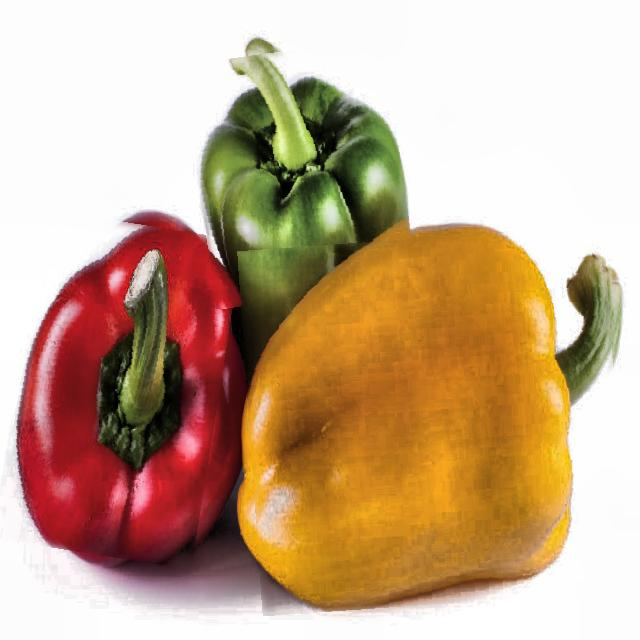capsicum: (243, 232, 622, 610)
green pepper: (190, 44, 409, 303)
red capsicum: (4, 216, 230, 563)
